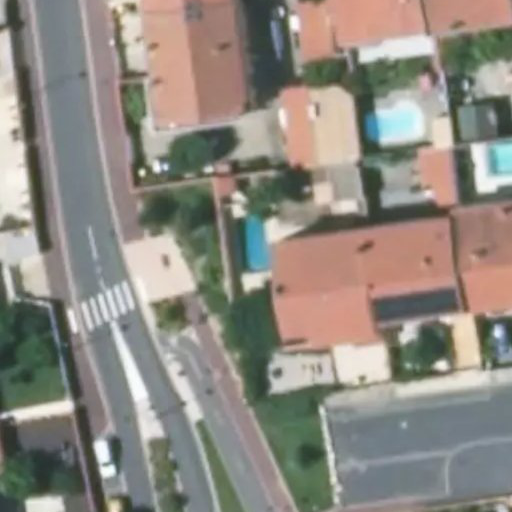pool: (237, 214, 274, 269)
